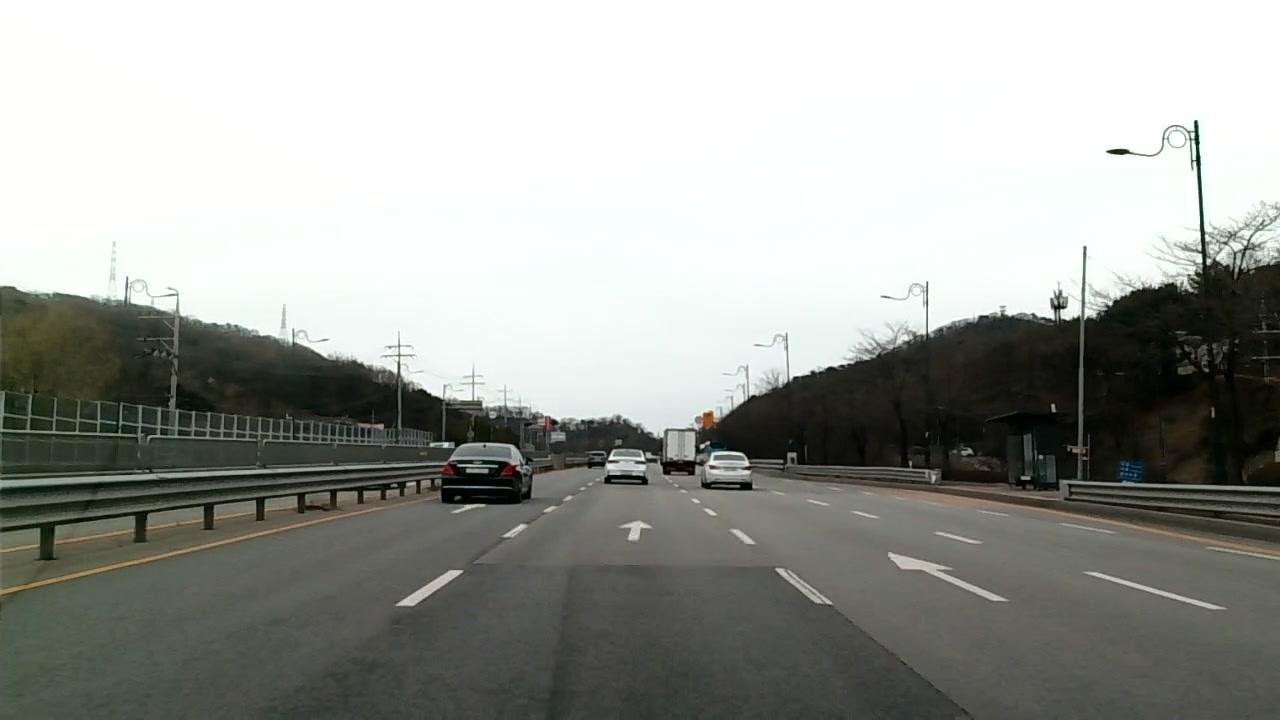vcrack: (827, 602, 975, 720)
